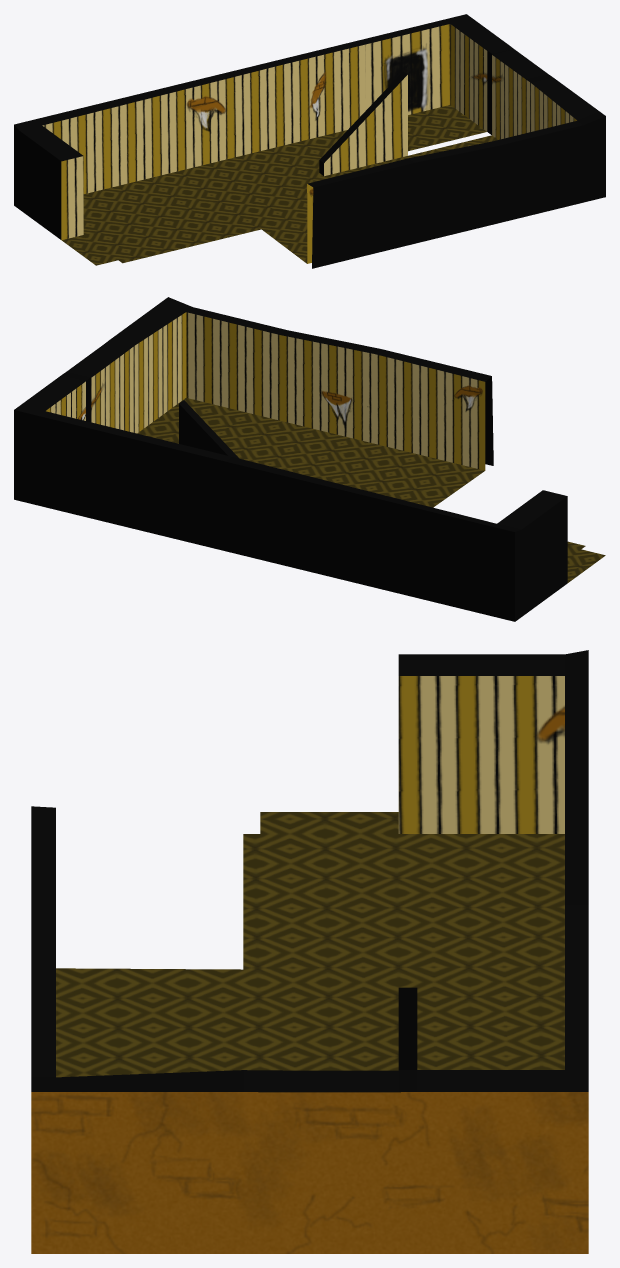
The model's file is Downstairs Hallway Room.fbx.
3 renders of one model, top to bottom at view 1: azimuth 30°, elevation 25°; view 2: azimuth 150°, elevation 25°; view 3: azimuth 270°, elevation 25°, orthographic. The views are drawn at different scales.
Parts seen in each view (by area): view 1: Downstairs hallway; view 2: Downstairs hallway; view 3: Downstairs hallway.
Boxes of the visible parts, x1,y1,x2,y2 form: Downstairs hallway: (14,14,605,268); Downstairs hallway: (14,297,605,621); Downstairs hallway: (31,650,588,1253).
Size of the model in its own units: 1742 by 300 by 928.
